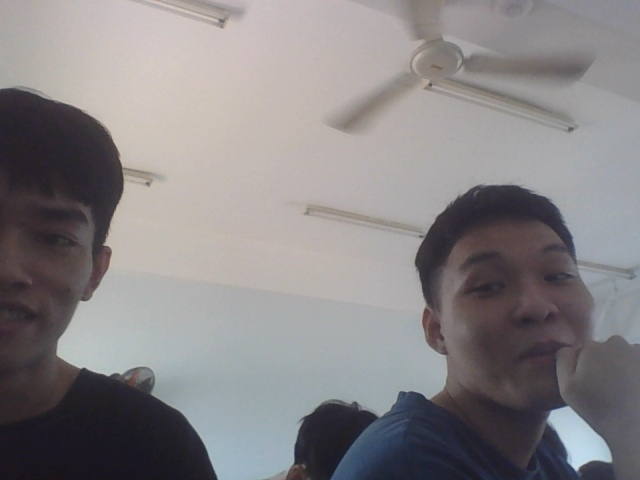real: (419, 156, 605, 419)
